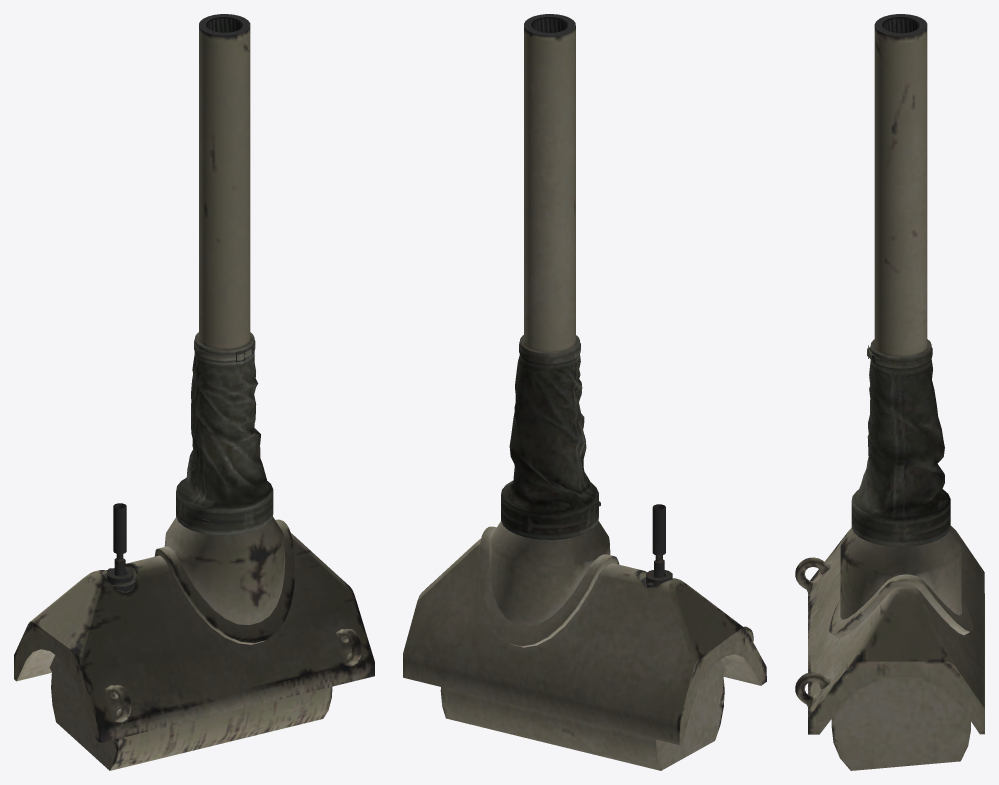
The model's file is Gun_06.glb.
The picture shows the model from 3 angles, left to right: view 1: azimuth 30°, elevation 25°; view 2: azimuth 150°, elevation 25°; view 3: azimuth 270°, elevation 25°; orthographic projection. The views are drawn at different scales.
Parts seen in each view (by area): view 1: set_0_group_0; view 2: set_0_group_0; view 3: set_0_group_0.
Part boxes in pixels (bbox=[...]): set_0_group_0: bbox=[14, 14, 374, 770]; set_0_group_0: bbox=[403, 14, 766, 770]; set_0_group_0: bbox=[795, 14, 984, 770].
Size of the model in its own units: 0.6962 by 1.68 by 0.4082.
1 material, 1 textured.
